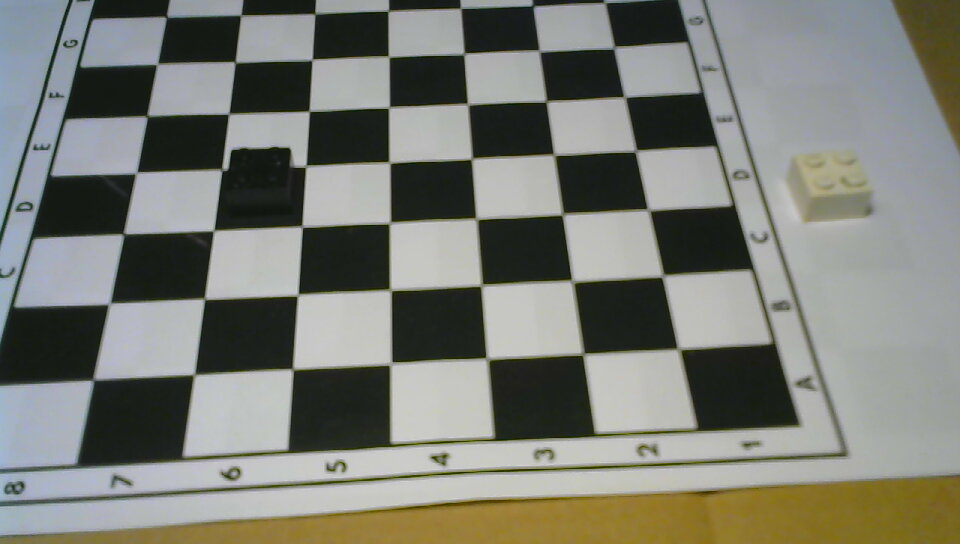bp: (226, 146, 291, 211)
wp: (787, 151, 874, 225)
